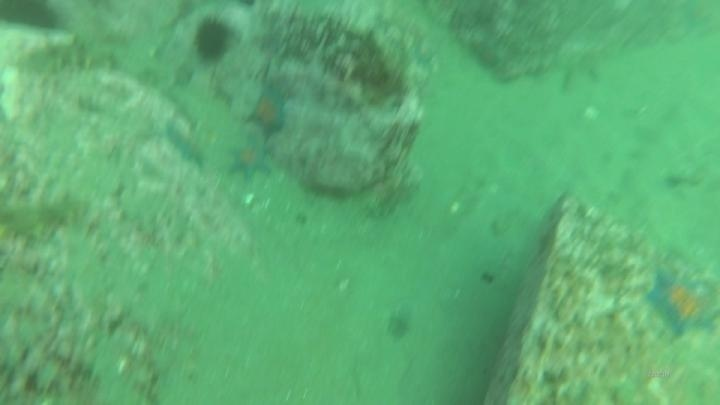echinus: (0, 1, 64, 37), (190, 16, 235, 66)
holothurian: (11, 33, 123, 82), (0, 188, 93, 247)
starfish: (641, 267, 719, 343), (243, 82, 293, 141), (160, 119, 212, 173), (223, 137, 275, 183)
